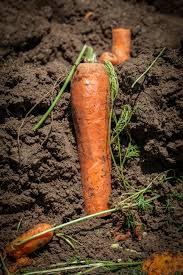carrot: (65, 57, 124, 218)
